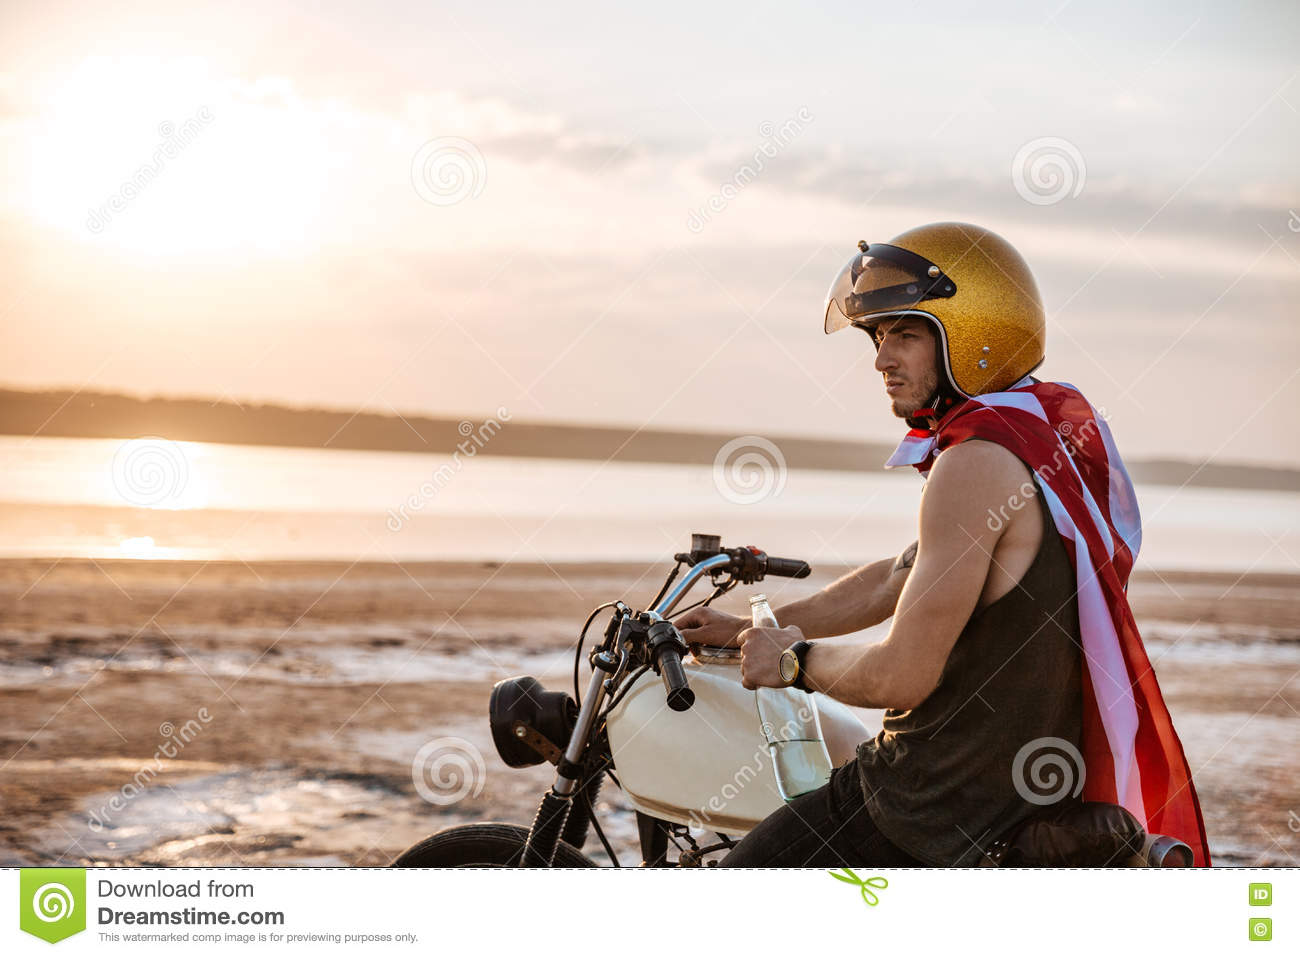helmet: (840, 217, 1064, 416)
